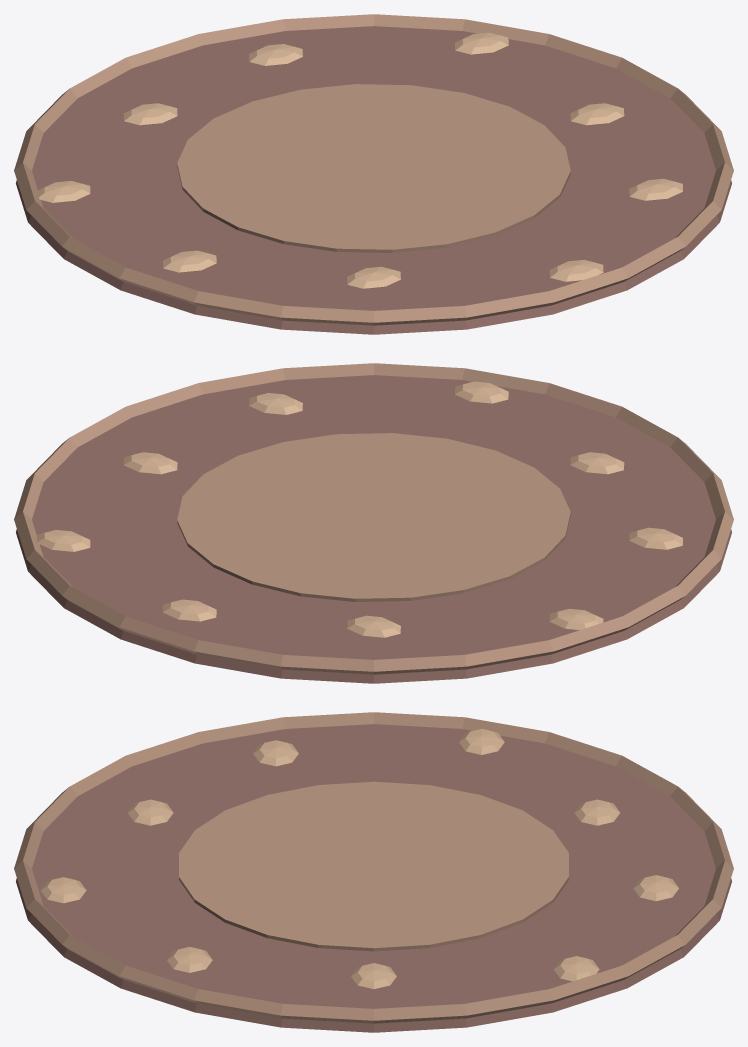
Rendered from chocolate_pequeno.glb.
The picture shows the model from 3 angles, top to bottom: view 1: azimuth 30°, elevation 25°; view 2: azimuth 150°, elevation 25°; view 3: azimuth 270°, elevation 25°; orthographic projection.
Parts seen in each view (by area): view 1: chocolate_pequeno; view 2: chocolate_pequeno; view 3: chocolate_pequeno.
Boxes of the visible parts, <box> form: chocolate_pequeno: <box>14,14,733,334</box>; chocolate_pequeno: <box>14,363,733,683</box>; chocolate_pequeno: <box>14,712,733,1032</box>.
Size of the model in its own units: 2.81 by 0.09 by 2.81.
